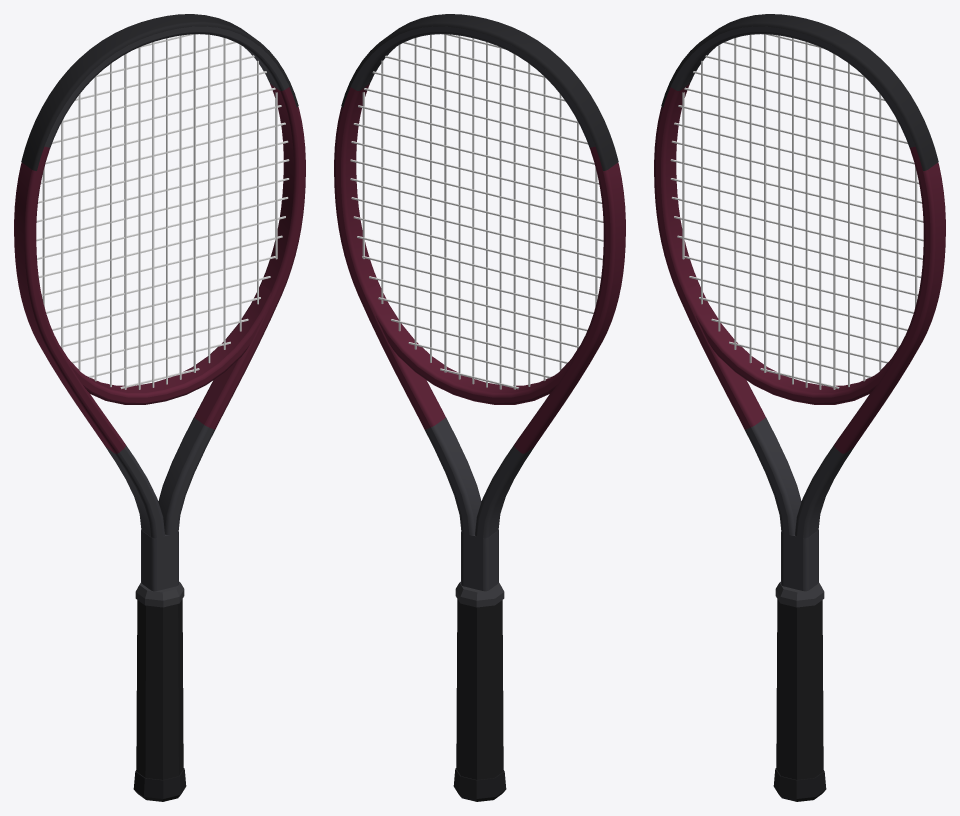
Rendered from head-prestige-tour-2023.glb.
3 renders of one model, left to right at view 1: azimuth 30°, elevation 25°; view 2: azimuth 150°, elevation 25°; view 3: azimuth 330°, elevation 25°, orthographic.
Parts seen in each view (by area): view 1: frame, strings_mains, strings_crosses, grip, bumper, butt_cap, collar; view 2: frame, strings_mains, strings_crosses, grip, bumper, butt_cap, collar; view 3: frame, strings_mains, strings_crosses, grip, bumper, butt_cap, collar.
Boxes of the visible parts, box(x1,y1,x2,y2) form: frame: box(14, 26, 305, 591); strings_mains: box(42, 34, 277, 389); strings_crosses: box(36, 34, 289, 388); grip: box(136, 599, 183, 779); bumper: box(21, 14, 298, 170); butt_cap: box(133, 768, 186, 801); collar: box(135, 581, 184, 607); frame: box(334, 26, 625, 591); strings_mains: box(362, 34, 597, 389); strings_crosses: box(350, 34, 603, 389); grip: box(456, 599, 503, 779); bumper: box(341, 14, 618, 170); butt_cap: box(453, 768, 506, 801); collar: box(455, 581, 504, 607); frame: box(654, 26, 945, 591); strings_mains: box(682, 34, 917, 389); strings_crosses: box(670, 34, 923, 388); grip: box(776, 599, 823, 779); bumper: box(661, 14, 938, 170); butt_cap: box(773, 768, 826, 801); collar: box(775, 581, 824, 607).
Bounding box in the file's own units: 0.2623 × 0.6861 × 0.0396.
